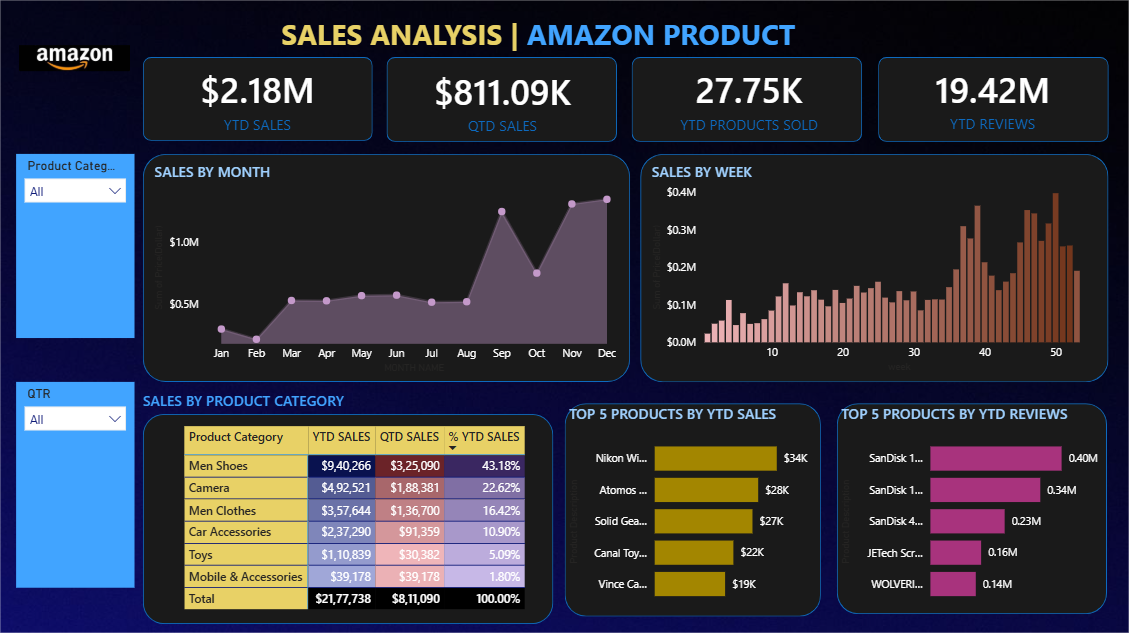

This screenshot's page, from the dashboard's own definition file:
{"tool":"powerbi","page":{"name":"Page 1","canvas":[1280,720],"ordinal":0},"visuals":[{"type":"shape","box":[439.2,65.1,260.7,96.1],"z":0,"group":"g1"},{"type":"textbox","box":[314.2,11,650.4,54.9],"z":0},{"type":"shape","box":[162.9,65.1,260,95],"z":1000,"group":"g1"},{"type":"group","id":"g1","title":"Group 1","box":[162.9,65.1,1093,95.3],"z":1000},{"type":"card","fields":{"Values":["Amazon_Data.QTD SALES"]},"box":[440.1,66.5,259.3,94.7],"z":2000,"group":"g1"},{"type":"shape","box":[162.9,173.7,551.3,258.2],"z":2000},{"type":"card","fields":{"Values":["Amazon_Data.YTD SALES"]},"box":[162.9,65.1,259.3,94.7],"z":3000,"group":"g1"},{"type":"areaChart","title":"SALES BY MONTH","fields":{"Category":["DATE TABLE.MONTH NAME"],"Y":["Sum(Amazon_Data.Price(Dollar))"]},"box":[171.3,182.2,538.1,244.9],"z":3000},{"type":"shape","box":[716.8,65.1,260.7,96.1],"z":4000,"group":"g1"},{"type":"shape","box":[725.7,174.3,530,258.6],"z":4000},{"type":"shape","box":[994.5,65.1,260.7,96.1],"z":5000,"group":"g1"},{"type":"columnChart","title":"SALES BY WEEK","fields":{"Category":["DATE TABLE.week"],"Y":["Sum(Amazon_Data.Price(Dollar))"]},"box":[734.1,182.5,514.6,244.3],"z":5000},{"type":"card","fields":{"Values":["Amazon_Data.YTD PRODUCTS SOLD"]},"box":[718.6,65.1,259.3,94.7],"z":6000,"group":"g1"},{"type":"shape","title":"SALES BY PRODUCT CATEGORY","box":[163.3,442.2,464.4,264.4],"z":6000},{"type":"card","fields":{"Values":["Amazon_Data.YTD REVIEWS"]},"box":[995,65.6,259.4,94.1],"z":7000,"group":"g1"},{"type":"pivotTable","fields":{"Rows":["Amazon_Data.Product Category"],"Values":["Amazon_Data.YTD SALES1","Amazon_Data.QTD SALES","Amazon_Data.YTD SALES"]},"box":[205.6,477.8,464.4,228.9],"z":7000},{"type":"shape","box":[640,455.7,290,241.4],"z":8000},{"type":"shape","box":[948.6,455.7,305.7,238.6],"z":9000},{"type":"clusteredBarChart","title":"TOP 5 PRODUCTS BY YTD SALES","fields":{"Category":["Amazon_Data.Product Description"],"Y":["Amazon_Data.YTD SALES"]},"box":[640,455.7,290,238.6],"z":10000},{"type":"clusteredBarChart","title":"TOP 5 PRODUCTS BY YTD REVIEWS","fields":{"Category":["Amazon_Data.Product Description"],"Y":["Amazon_Data.YTD REVIEWS"]},"box":[948.6,455.7,305.7,238.6],"z":11000},{"type":"slicer","fields":{"Values":["Amazon_Data.Product Category"]},"box":[18.6,174.3,134.3,208.6],"z":12000},{"type":"slicer","fields":{"Values":["DATE TABLE.QTR"]},"box":[18.6,432.9,134.3,232.9],"z":13000},{"type":"image","box":[17.1,10,135.7,112.9],"z":14000}]}

Visuals, with their boxes in screenshot pixels (x1, y1, x2, y2), scaled from the page's 1280x720 canvas onto the 1129x633 screenshot:
shape: region(387, 57, 617, 142)
textbox: region(277, 10, 851, 58)
shape: region(144, 57, 373, 141)
"Group 1" group: region(144, 57, 1108, 141)
card - Amazon_Data.QTD SALES: region(388, 58, 617, 142)
shape: region(144, 153, 630, 380)
card - Amazon_Data.YTD SALES: region(144, 57, 372, 140)
"SALES BY MONTH" areaChart: region(151, 160, 626, 375)
shape: region(632, 57, 862, 142)
shape: region(640, 153, 1108, 381)
shape: region(877, 57, 1107, 142)
"SALES BY WEEK" columnChart: region(647, 160, 1101, 375)
card - Amazon_Data.YTD PRODUCTS SOLD: region(634, 57, 863, 140)
"SALES BY PRODUCT CATEGORY" shape: region(144, 389, 554, 621)
card - Amazon_Data.YTD REVIEWS: region(878, 58, 1106, 140)
pivotTable - Amazon_Data.Product Category x Amazon_Data.YTD SALES1: region(181, 420, 591, 621)
shape: region(564, 401, 820, 613)
shape: region(837, 401, 1106, 610)
"TOP 5 PRODUCTS BY YTD SALES" clusteredBarChart: region(564, 401, 820, 610)
"TOP 5 PRODUCTS BY YTD REVIEWS" clusteredBarChart: region(837, 401, 1106, 610)
slicer - Amazon_Data.Product Category: region(16, 153, 135, 337)
slicer - DATE TABLE.QTR: region(16, 381, 135, 585)
image: region(15, 9, 135, 108)
